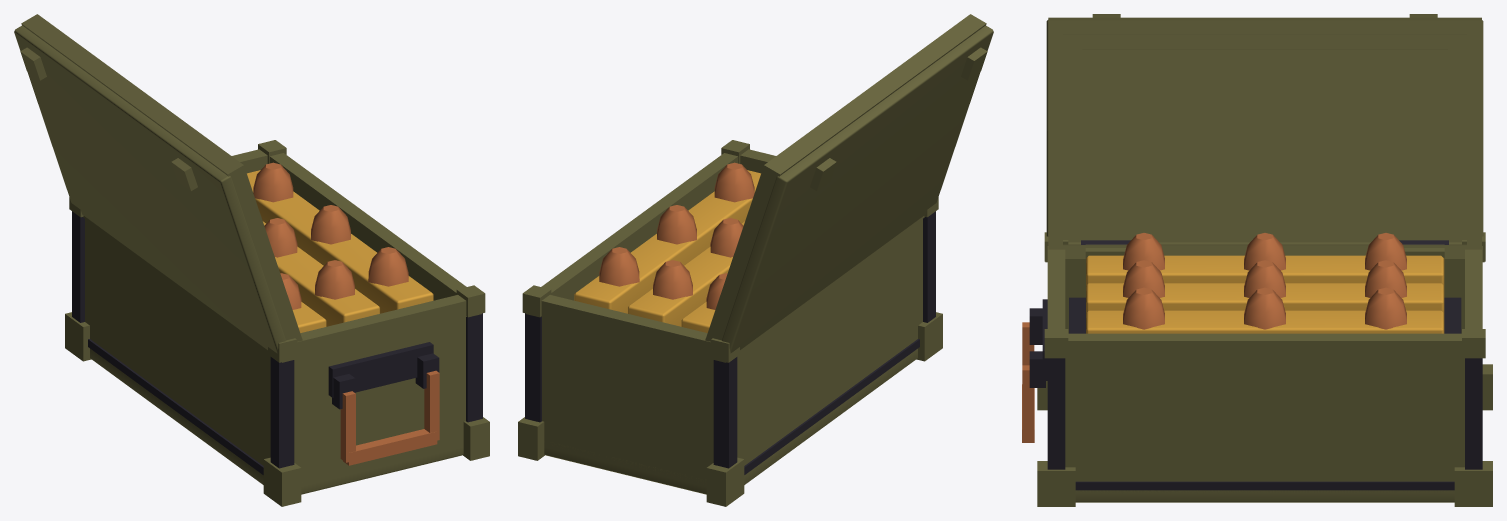
3 renders of one model, left to right at view 1: azimuth 30°, elevation 25°; view 2: azimuth 150°, elevation 25°; view 3: azimuth 270°, elevation 25°, orthographic. The views are drawn at different scales.
Visible parts, largest first — view 1: body_pal_grass, lid_pal_grass, body_pal_uiDark, body_pal_schoolBusYellow, body_pal_woodWarm, handle_pal_woodWarm; view 2: body_pal_grass, lid_pal_grass, body_pal_schoolBusYellow, body_pal_uiDark, body_pal_woodWarm; view 3: lid_pal_grass, body_pal_grass, body_pal_schoolBusYellow, body_pal_uiDark, body_pal_woodWarm, handle_pal_woodWarm.
Part boxes in pixels (<box>): body_pal_grass: <box>65,140,489,506</box>; lid_pal_grass: <box>14,14,302,353</box>; body_pal_uiDark: <box>72,211,482,474</box>; body_pal_schoolBusYellow: <box>247,170,433,332</box>; body_pal_woodWarm: <box>253,162,408,309</box>; handle_pal_woodWarm: <box>340,370,439,465</box>; body_pal_grass: <box>518,140,942,506</box>; lid_pal_grass: <box>705,14,993,353</box>; body_pal_schoolBusYellow: <box>574,170,760,332</box>; body_pal_uiDark: <box>525,211,935,474</box>; body_pal_woodWarm: <box>599,162,754,309</box>; lid_pal_grass: <box>1046,14,1483,258</box>; body_pal_grass: <box>1037,232,1492,506</box>; body_pal_schoolBusYellow: <box>1086,255,1444,333</box>; body_pal_uiDark: <box>1029,240,1482,490</box>; body_pal_woodWarm: <box>1123,233,1406,329</box>; handle_pal_woodWarm: <box>1022,322,1034,442</box>.
Bounding box in the file's own units: 0.4588 × 0.5437 × 0.6385.
